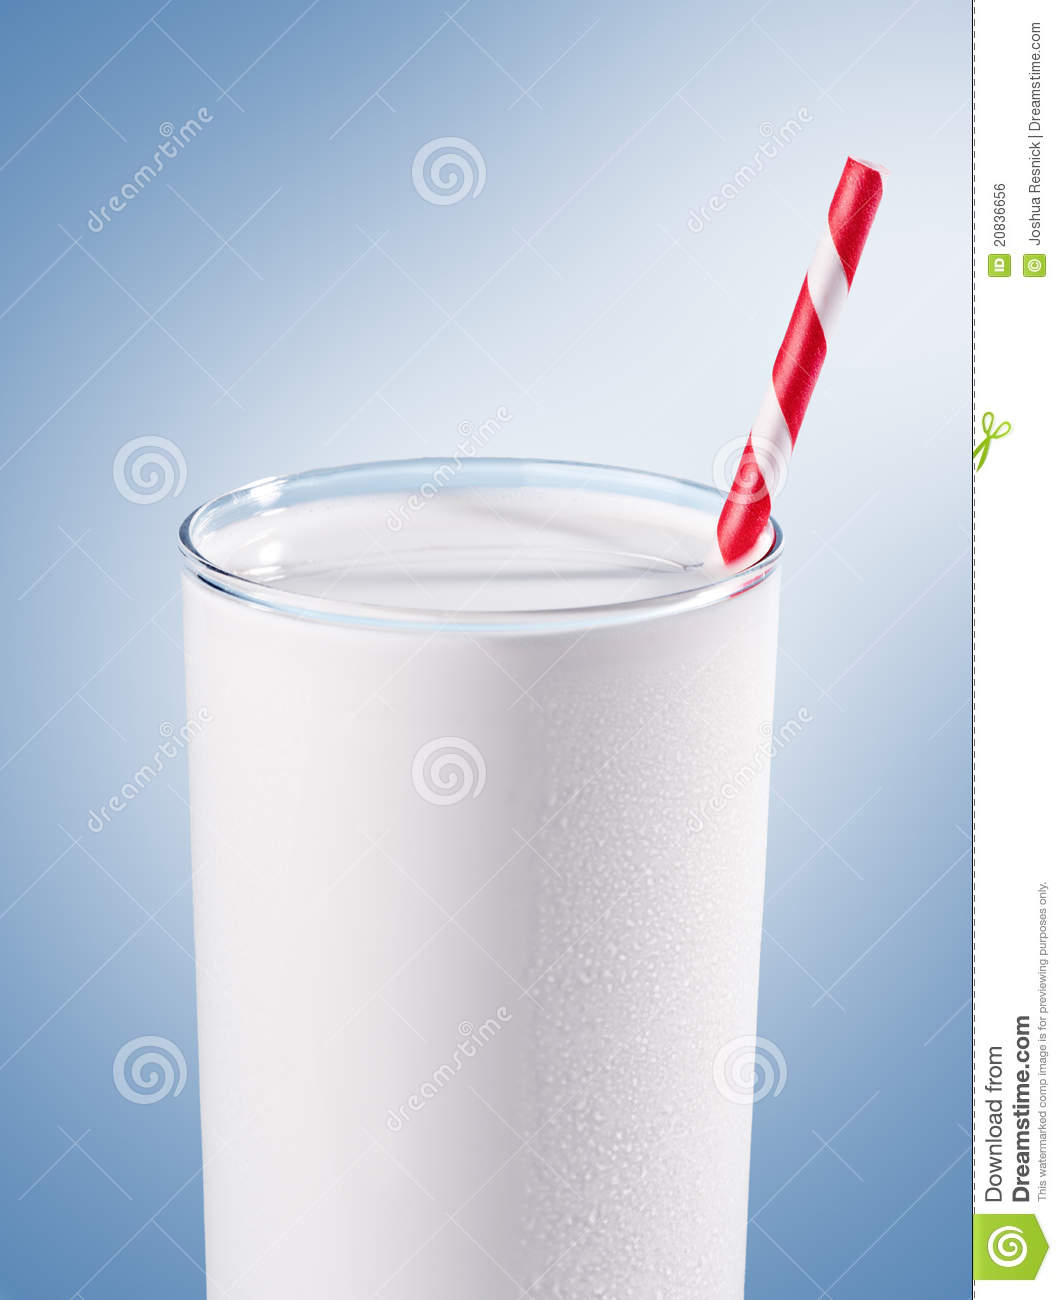glass of milk: (206, 493, 744, 1257)
